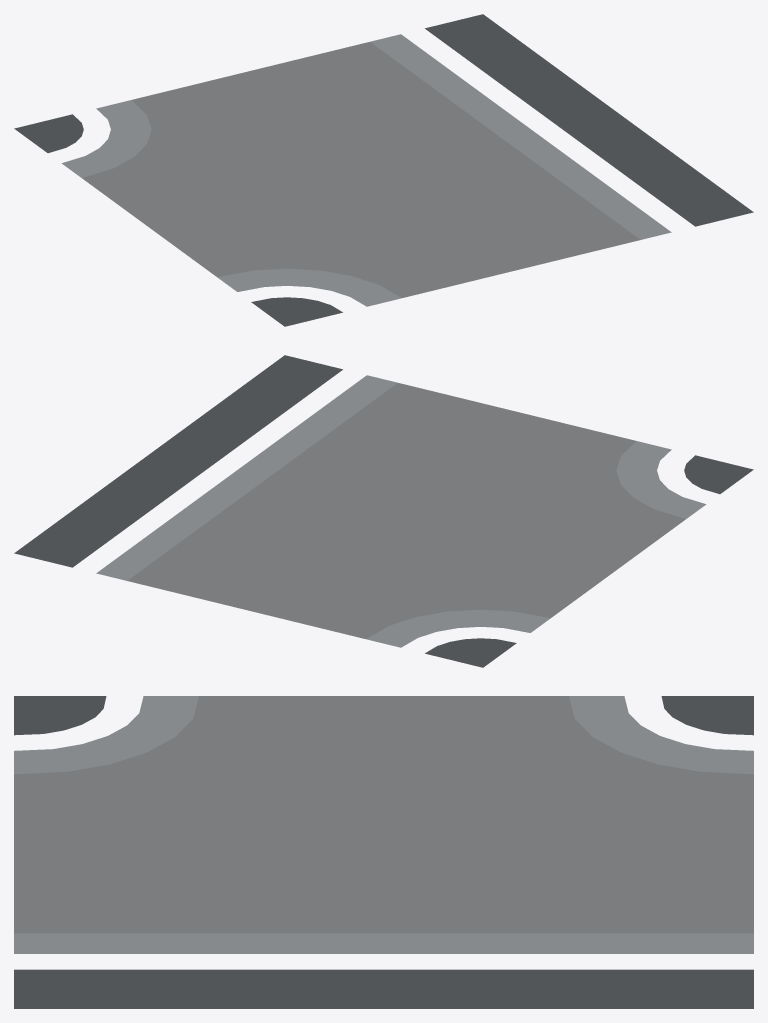
The model's file is Ceiling_type_B_034_004.glb.
3 renders of one model, top to bottom at view 1: azimuth 30°, elevation 25°; view 2: azimuth 150°, elevation 25°; view 3: azimuth 270°, elevation 25°, orthographic. The views are drawn at different scales.
Parts seen in each view (by area): view 1: Ceiling_type_B_034.004; view 2: Ceiling_type_B_034.004; view 3: Ceiling_type_B_034.004.
Part boxes in pixels (x1,y1,x2,y2): Ceiling_type_B_034.004: (14, 14, 753, 326); Ceiling_type_B_034.004: (14, 355, 753, 667); Ceiling_type_B_034.004: (14, 696, 753, 1008).
Size of the model in its own units: 4 by 0.012 by 4.
2 materials, 2 textured.
